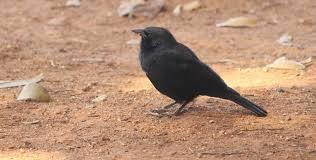grauna: (131, 26, 268, 119)
